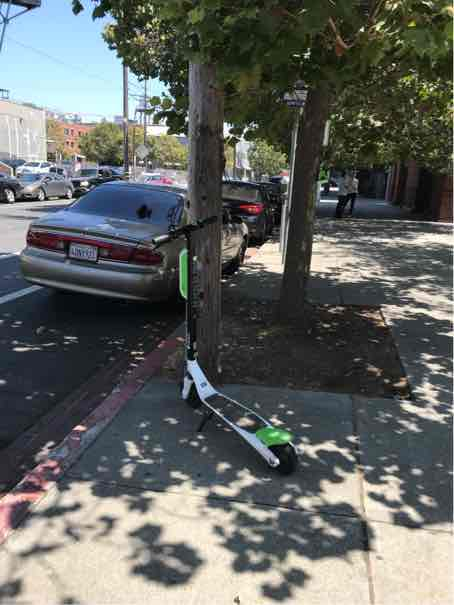scooter: (148, 216, 302, 480)
